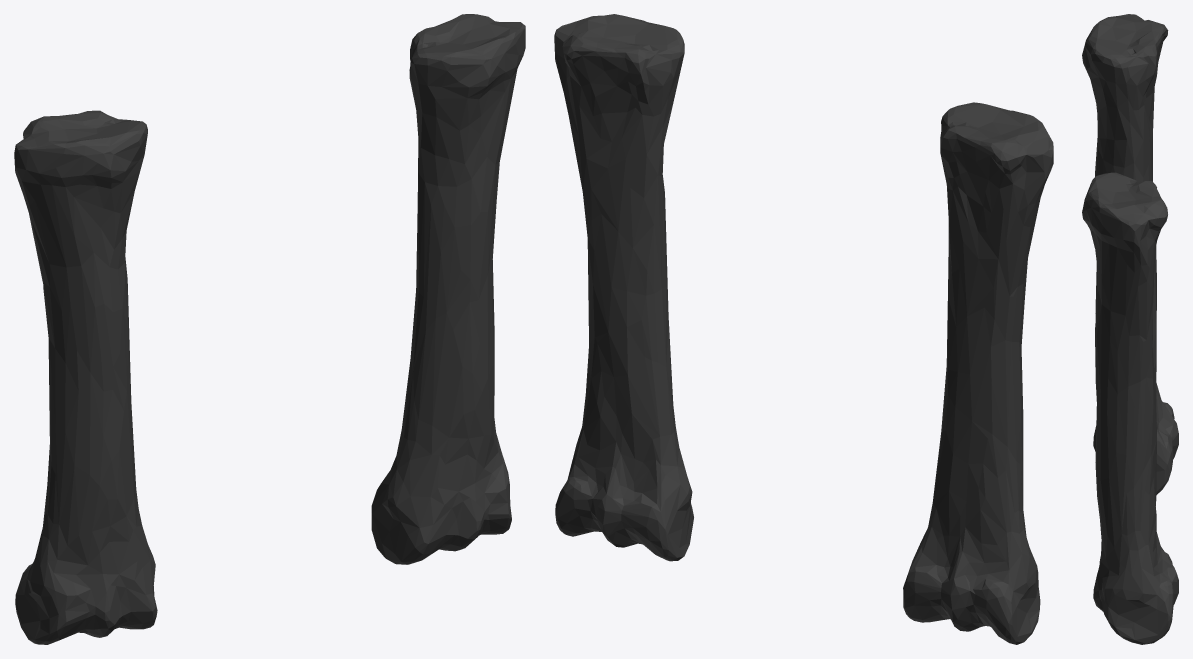
File: skel_FL_cannon.glb
The picture shows the model from 3 angles, left to right: view 1: azimuth 30°, elevation 25°; view 2: azimuth 150°, elevation 25°; view 3: azimuth 270°, elevation 25°; orthographic projection. The views are drawn at different scales.
Visible parts, largest first — view 1: skel_FL_cannon; view 2: skel_FL_cannon; view 3: skel_FL_cannon.
Part boxes in pixels (x1,y1,x2,y2): skel_FL_cannon: (14,14,525,644); skel_FL_cannon: (554,14,1053,644); skel_FL_cannon: (1082,14,1178,644).
Size of the model in its own units: 0.00456 by 0.00445 by 0.000885.
Materials: 1 (1 with a texture image).
